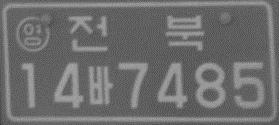1: (14, 61, 46, 109)
4: (155, 60, 187, 108), (53, 61, 84, 108)
5: (231, 60, 265, 110)
7: (117, 61, 149, 109)
8: (193, 61, 226, 109)
바: (87, 64, 114, 106)
영: (15, 15, 50, 54)
전북_D: (67, 14, 204, 53)
